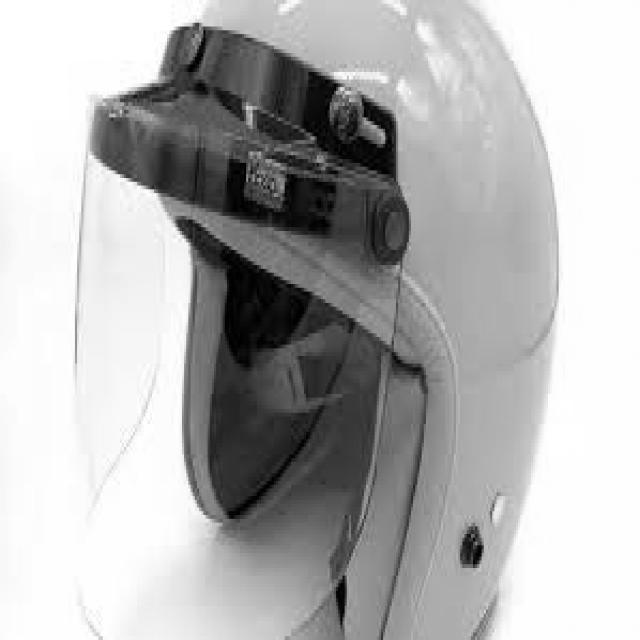Helmet: (75, 1, 554, 640)
